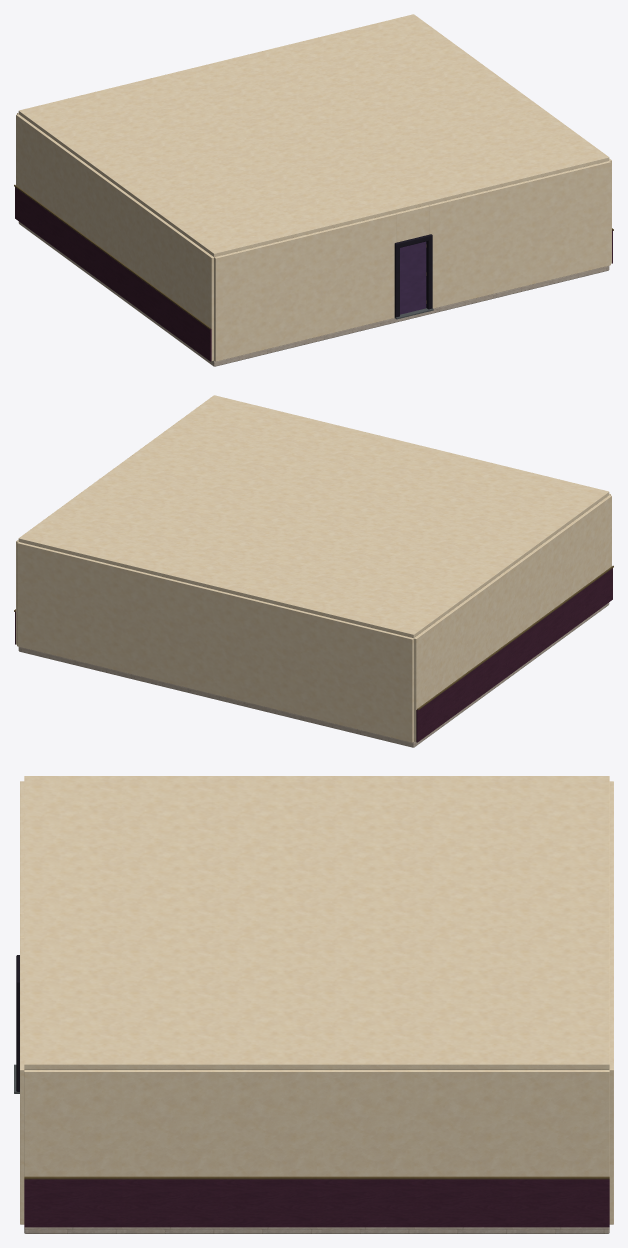
The model's file is explore3d__record_room.glb.
3 renders of one model, top to bottom at view 1: azimuth 30°, elevation 25°; view 2: azimuth 150°, elevation 25°; view 3: azimuth 270°, elevation 25°, orthographic. The views are drawn at different scales.
Parts seen in each view (by area): view 1: ceiling.031, wall.083, wall.082, wall.085, lower_panel.084, record_room_floor, front.028_leaf, door_lintel.021, panel_rail.084, front.028_jamb; view 2: ceiling.031, wall.084, wall.085, lower_panel.084, record_room_floor, panel_rail.084; view 3: ceiling.031, wall.086, lower_panel.085, record_room_floor, panel_rail.085, wall.084, wall.082, wall.083.
Part boxes in pixels (x1,y1,x2,y2): ceiling.031: (18, 14, 609, 257); wall.083: (214, 213, 396, 361); wall.082: (428, 161, 610, 308); wall.085: (16, 114, 213, 360); lower_panel.084: (15, 187, 211, 361); record_room_floor: (18, 221, 609, 366); front.028_leaf: (400, 241, 426, 314); door_lintel.021: (395, 205, 429, 242); panel_rail.084: (14, 184, 210, 329); front.028_jamb: (426, 237, 432, 309); ceiling.031: (18, 395, 609, 638); wall.084: (17, 542, 413, 742); wall.085: (414, 495, 611, 741); lower_panel.084: (416, 568, 612, 742); record_room_floor: (18, 602, 609, 747); panel_rail.084: (417, 565, 613, 710); ceiling.031: (24, 776, 609, 1069); wall.086: (24, 1070, 609, 1176); lower_panel.085: (24, 1179, 609, 1227); record_room_floor: (24, 1227, 609, 1233); panel_rail.085: (24, 1176, 609, 1179); wall.084: (609, 781, 613, 1224); wall.082: (20, 938, 24, 1224); wall.083: (20, 781, 24, 913).
Bounding box in the file's own units: 14.32 × 3.84 × 12.3.
Materials: 12 (11 with a texture image).
